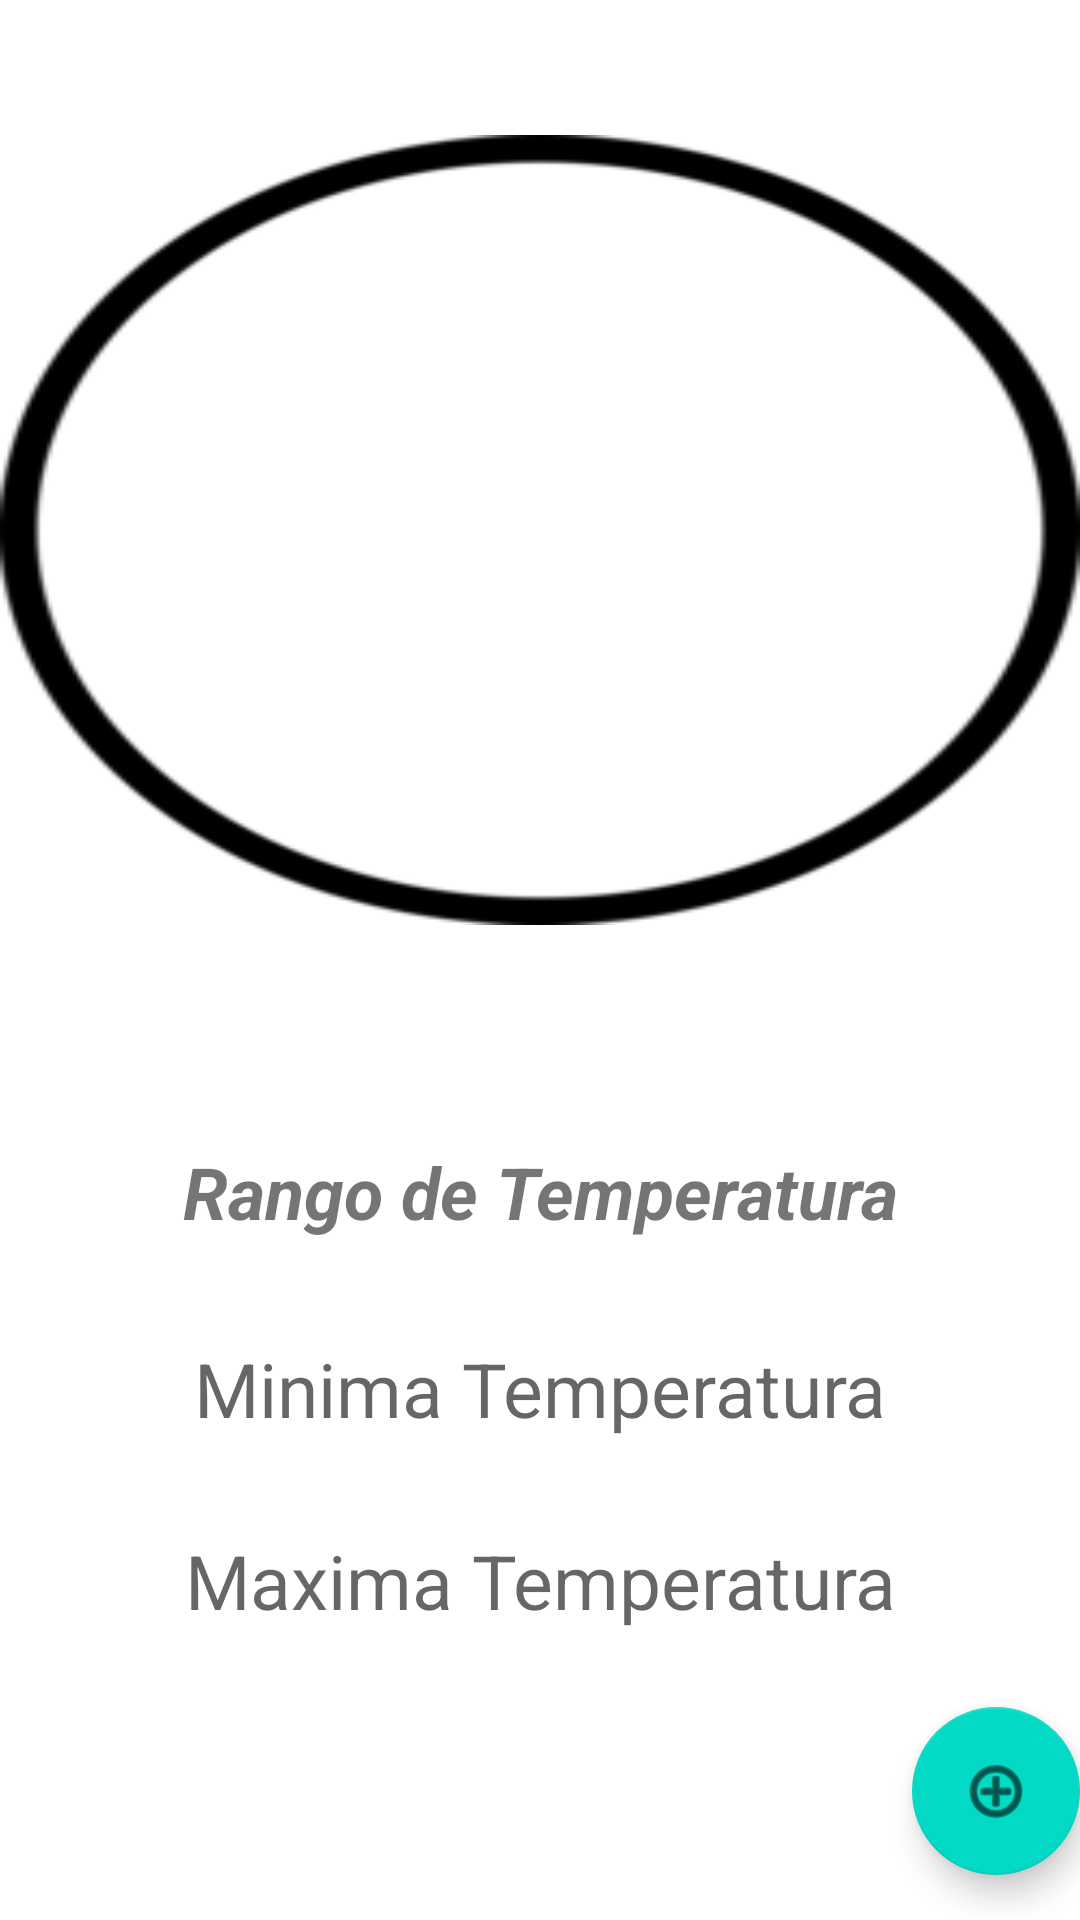

Where icons sit on this 1080×1920 app screen, as (x1, y1, x2, y2):
add: (912, 1707, 1080, 1875)
